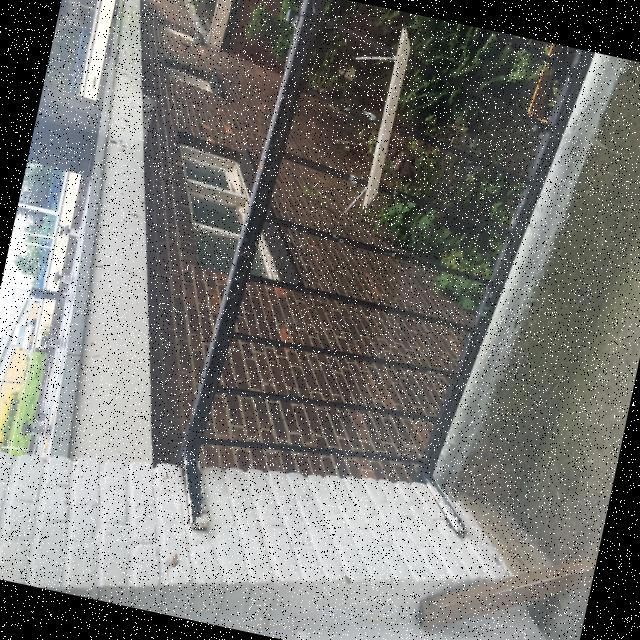fence line: (194, 8, 549, 483)
